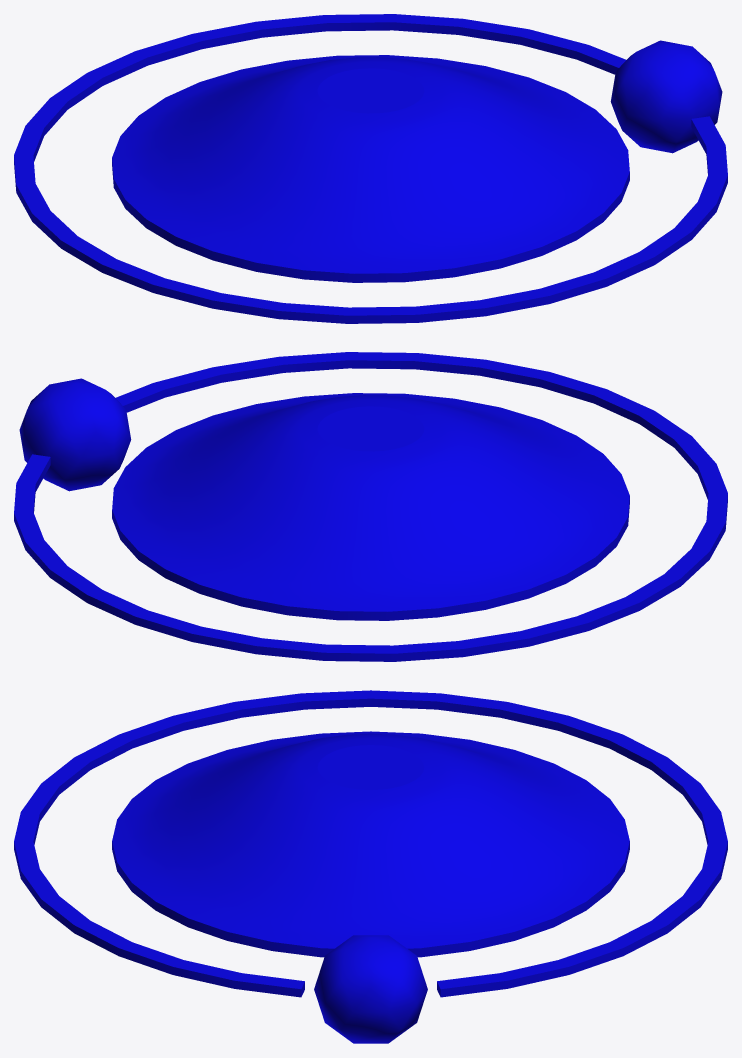
File: saucer.fbx
3 renders of one model, top to bottom at view 1: azimuth 30°, elevation 25°; view 2: azimuth 150°, elevation 25°; view 3: azimuth 270°, elevation 25°, orthographic.
Parts seen in each view (by area): view 1: Cylinder.001; view 2: Cylinder.001; view 3: Cylinder.001.
Part boxes in pixels (x1=…): Cylinder.001: x1=14, y1=14, x2=727, y2=323; Cylinder.001: x1=14, y1=352, x2=727, y2=661; Cylinder.001: x1=14, y1=690, x2=727, y2=1043.
Bounding box in the file's own units: 384 × 87.75 × 365.
